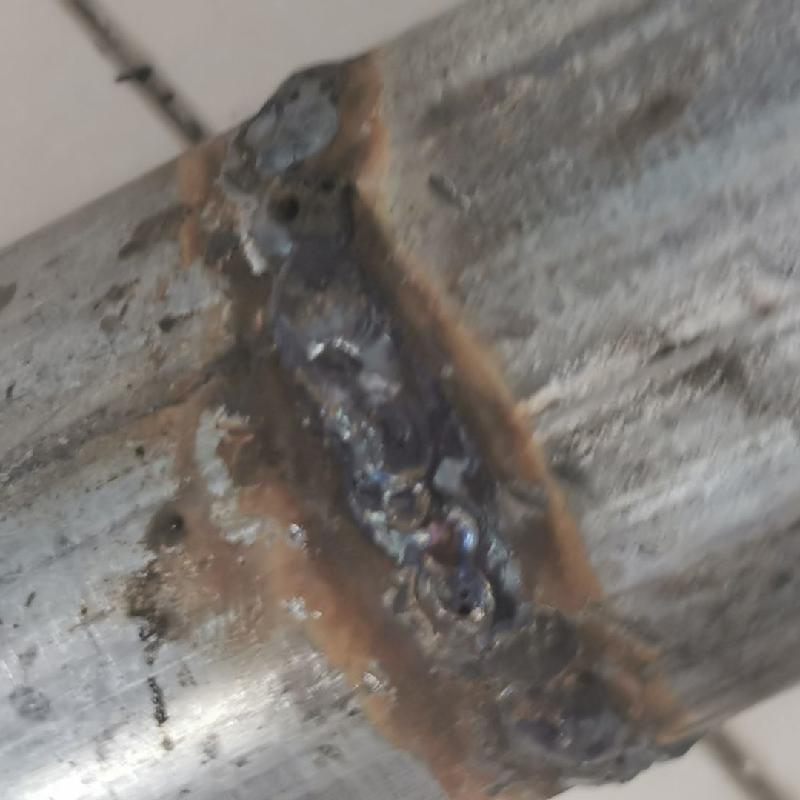Surface_pores: (258, 170, 356, 219), (436, 578, 485, 629)
crater: (324, 395, 660, 782)
wrong_size: (228, 61, 393, 375)
